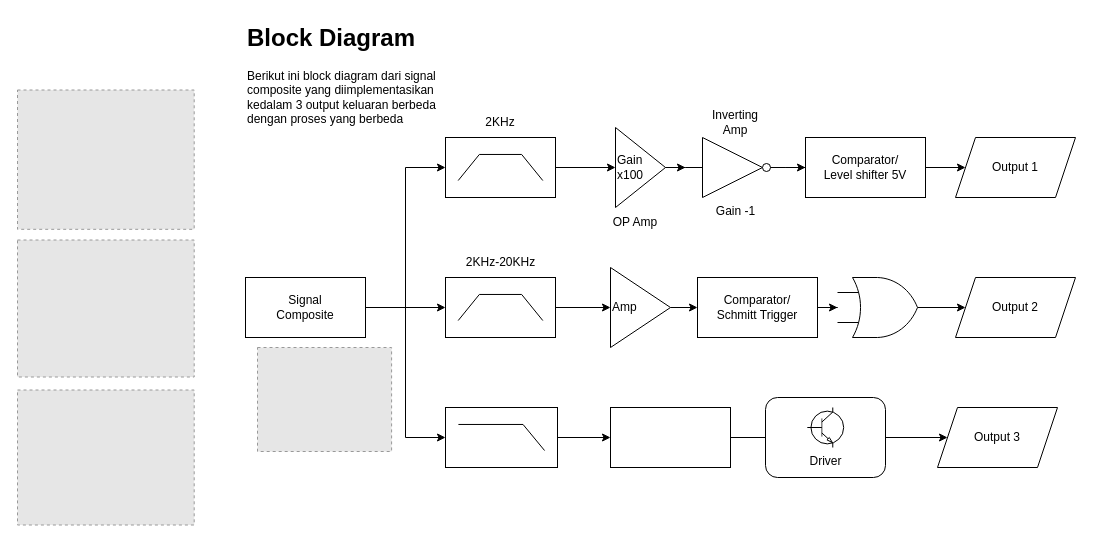
This 1093x542 diagram has some shape labels left out. Grey dashed boxes stand in for pictures. Each missing label, with the box of its shape:
Band Pass Filter 1: (444, 136, 556, 198)
Band Pass Filter 2: (444, 276, 556, 338)
Comparator: (610, 406, 730, 468)
Low Pass Filter: (444, 406, 558, 468)
OR Gate: (836, 276, 938, 338)
